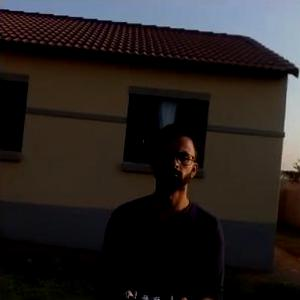follow: (86, 117, 226, 299)
